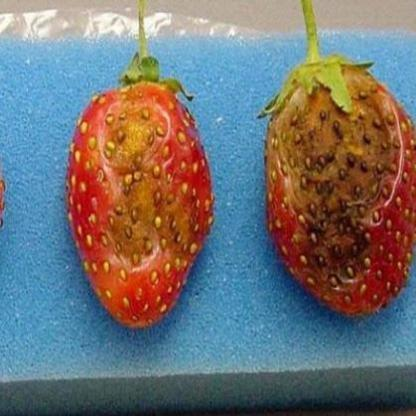Strawberry_Anthracnose_Fruit_Rot: (263, 64, 415, 310), (82, 80, 204, 279)
